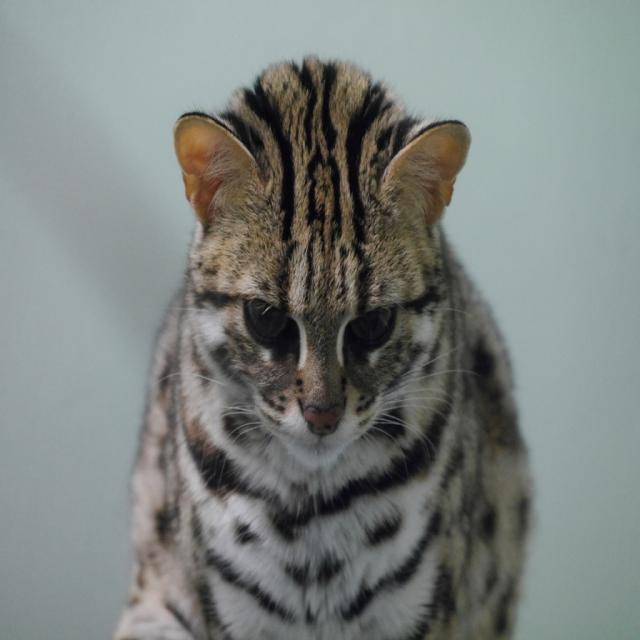Cat: (111, 51, 537, 639)
